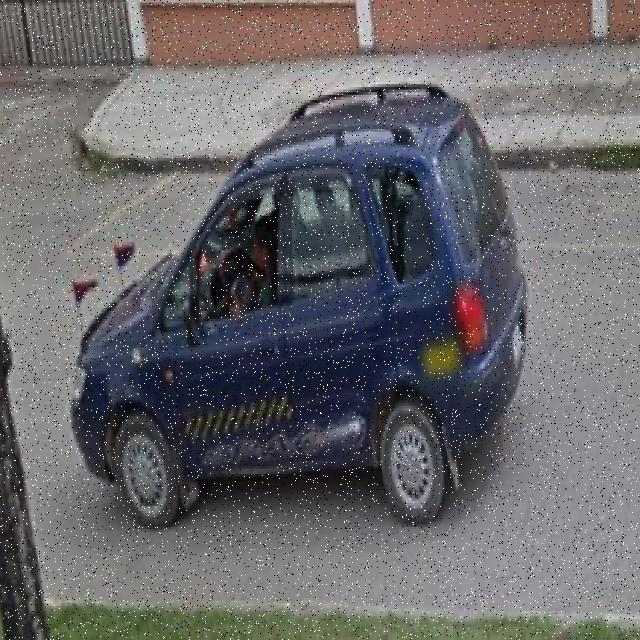cars: (68, 96, 529, 525)
